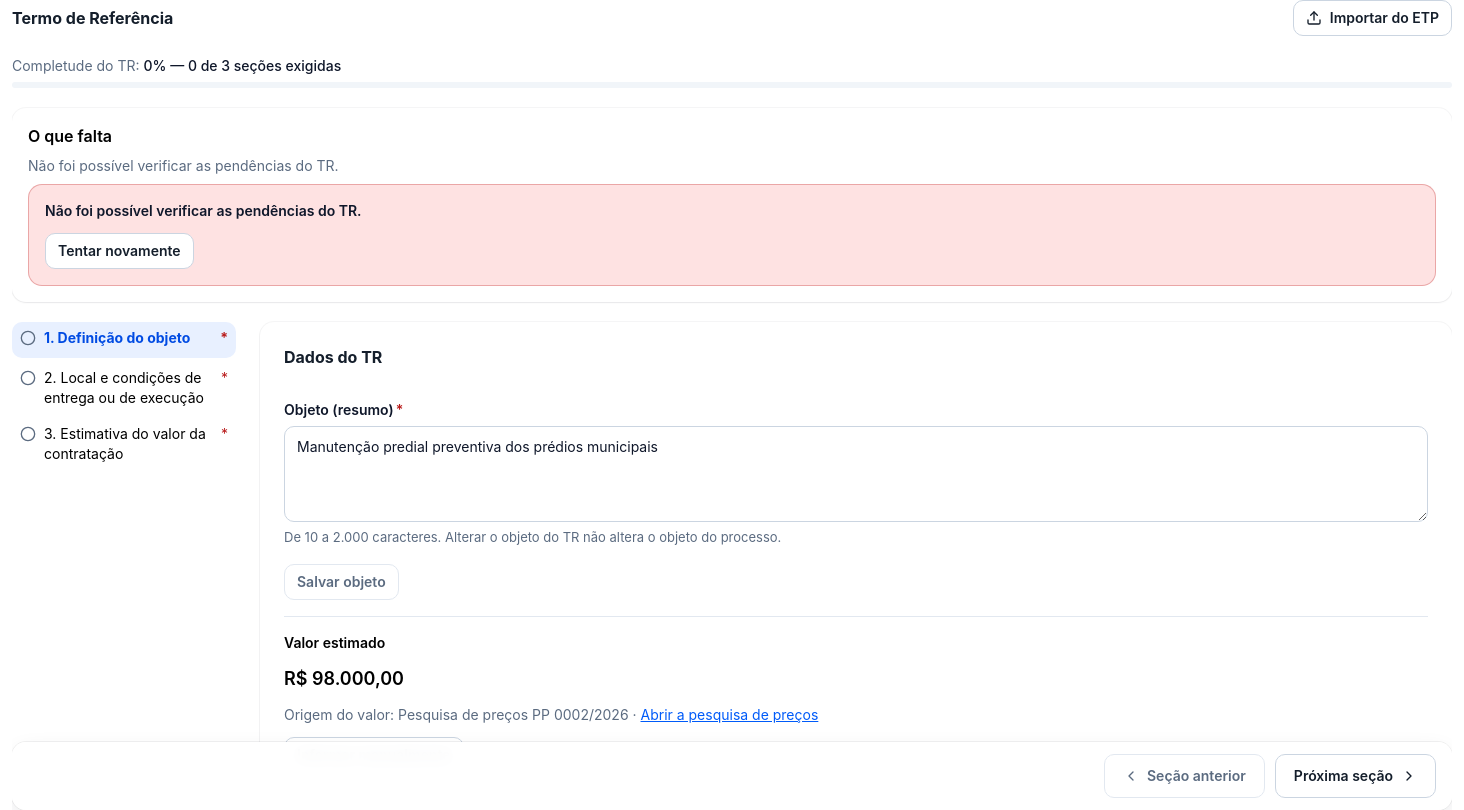
SCR-012 — editar seções do TR (US-036) › [Validação] seção REQUIRED: o "Não se aplica" não aparece; em REQUIRED_OR_JUSTIFY aparece
Click the button "2. Local e condições de entrega ou de execução *".
click(124, 388)  # box [12,362,236,414]
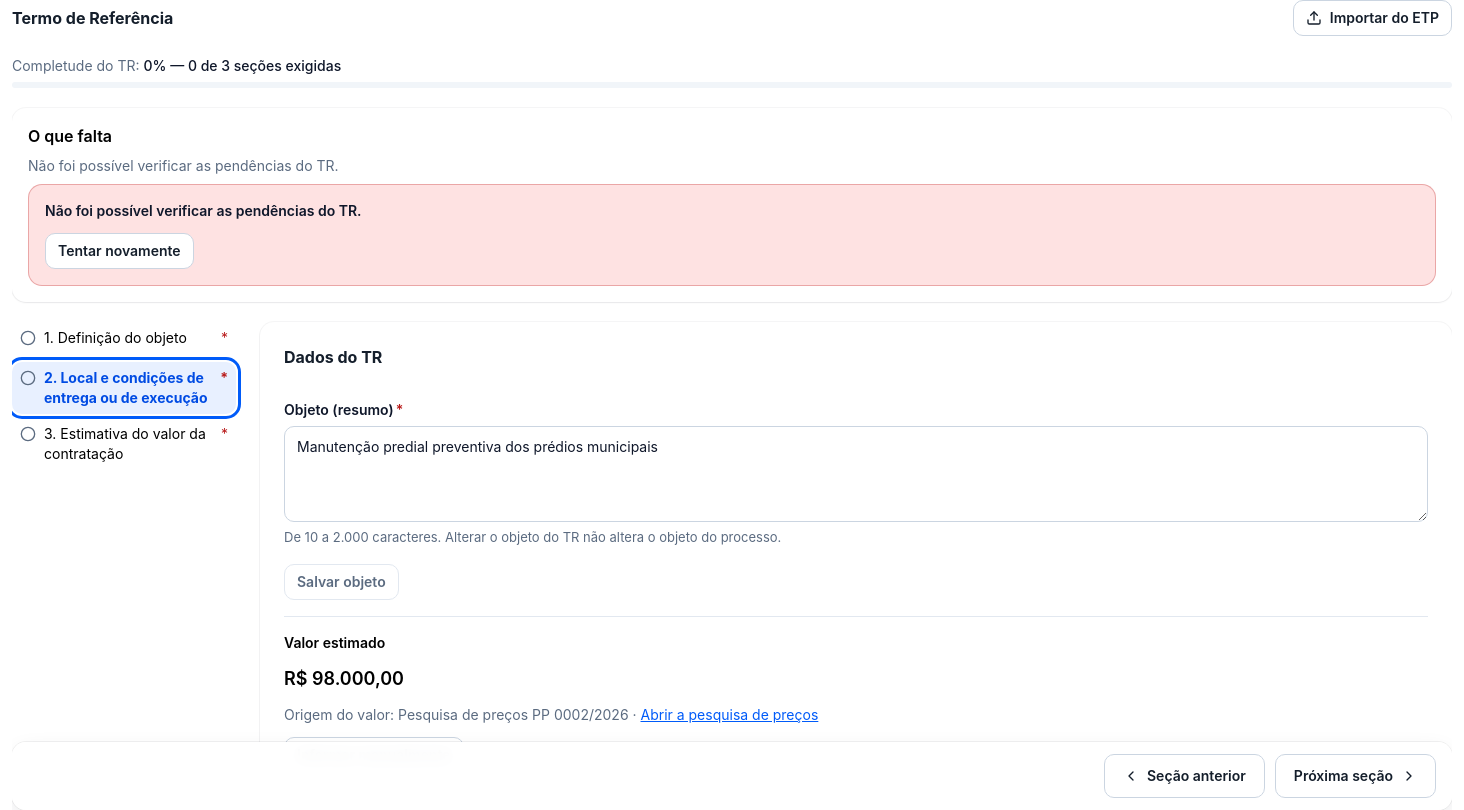
Click the button "3. Estimativa do valor da contratação *".
click(124, 444)  # box [12,418,236,470]
(page scrolled)
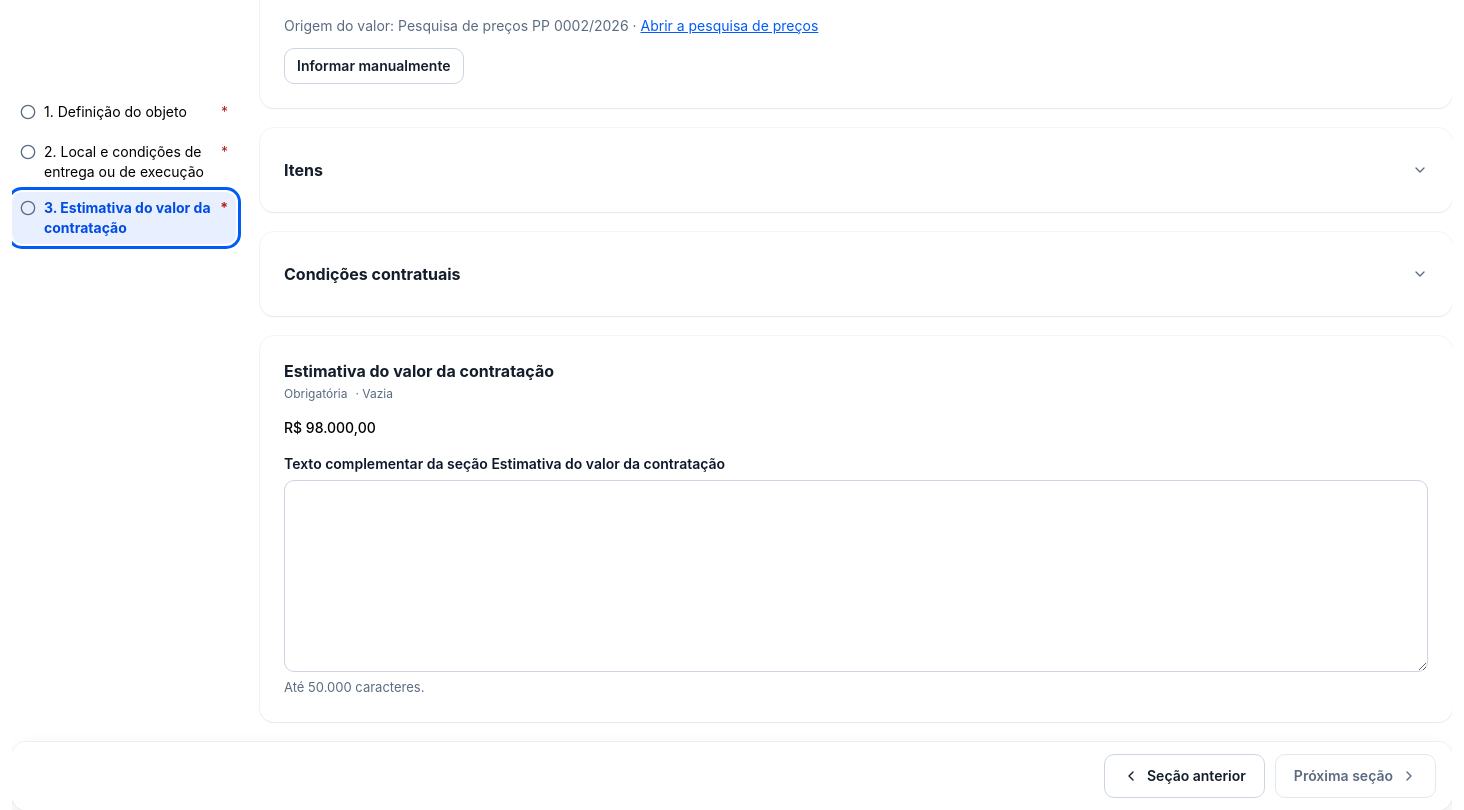
Expected: the text box labelled "Texto complementar da seção Estimativa" is shown, [284,480,1428,672]
